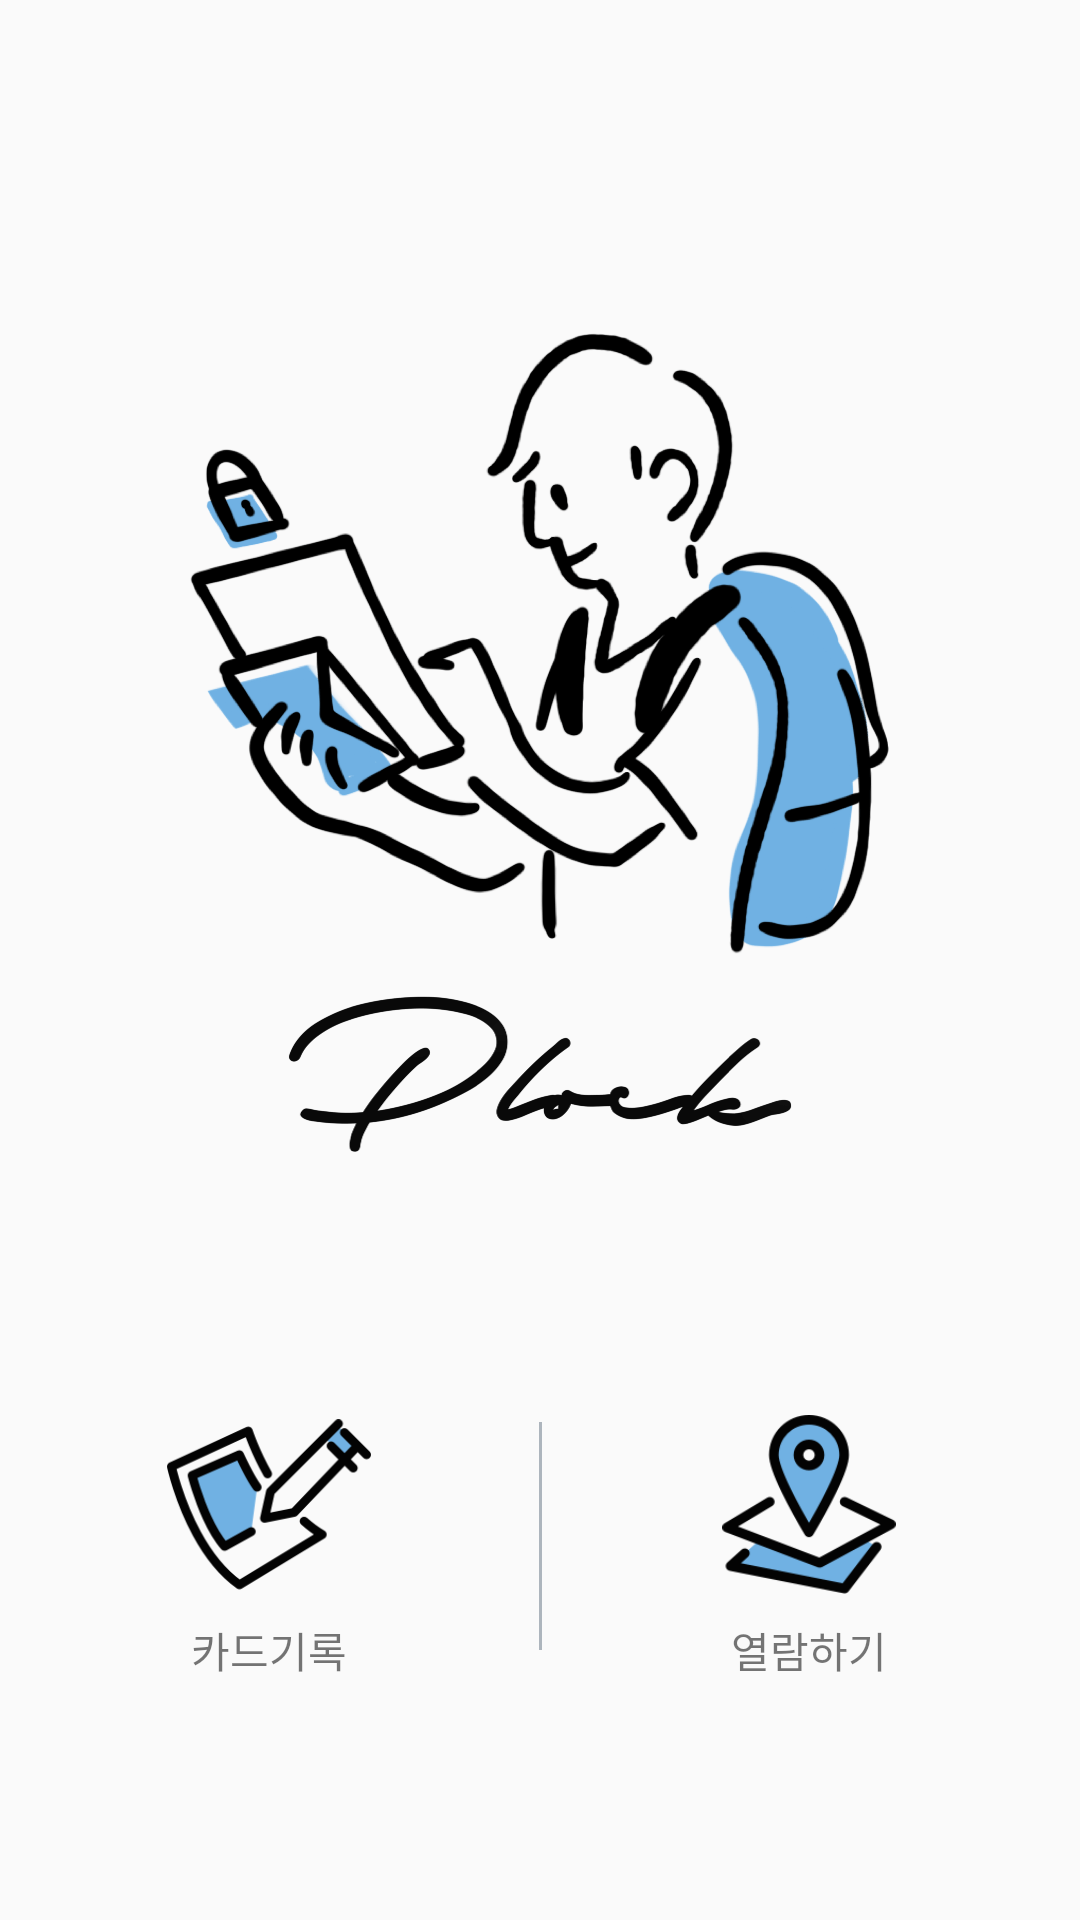

Point at icon controls on the screen. Image size 1080px×1920px, points as (x,y).
location: (809,1504)
